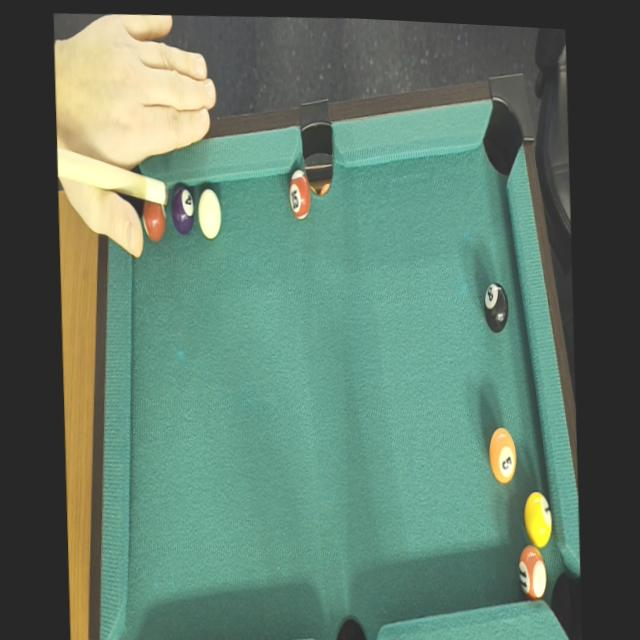cue ball: (195, 183, 225, 241)
other: (516, 533, 549, 604), (479, 270, 511, 339), (483, 426, 517, 489), (138, 180, 169, 249), (522, 492, 555, 551), (284, 158, 312, 222), (166, 175, 196, 234)
